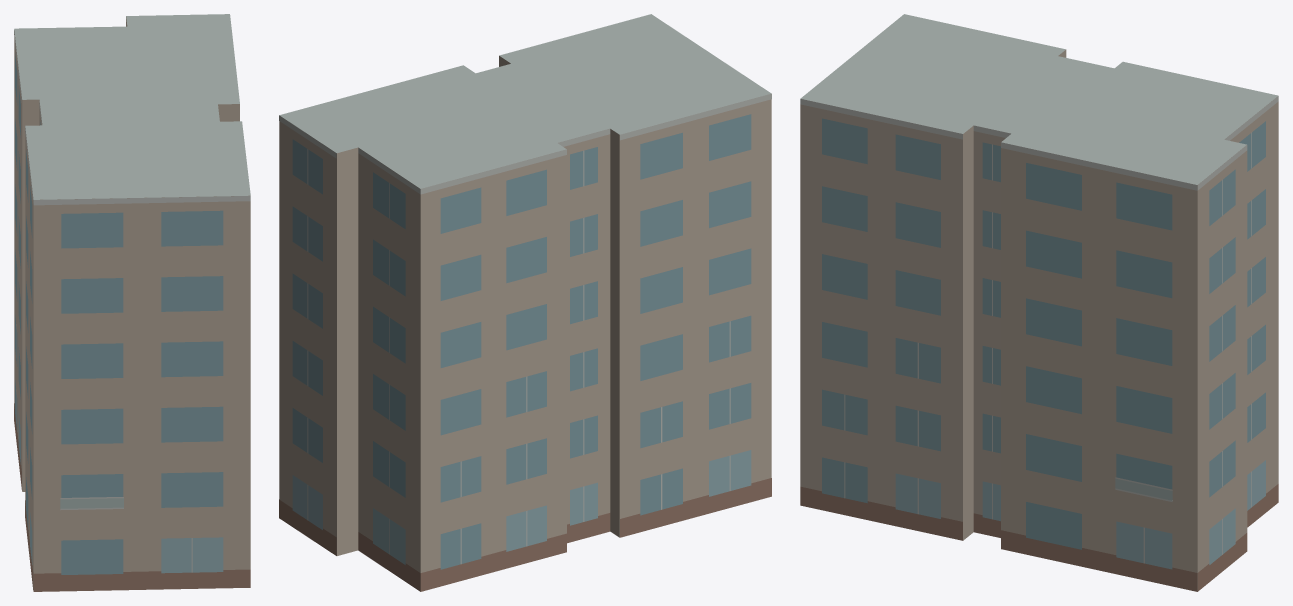
File: survey-upis-32551327.glb
3 renders of one model, left to right at view 1: azimuth 30°, elevation 25°; view 2: azimuth 150°, elevation 25°; view 3: azimuth 270°, elevation 25°, orthographic. The views are drawn at different scales.
Parts seen in each view (by area): view 1: survey-upis-32551327.tmp; view 2: survey-upis-32551327.tmp; view 3: survey-upis-32551327.tmp.
Part boxes in pixels (<box>): survey-upis-32551327.tmp: <box>14,14,250,591</box>; survey-upis-32551327.tmp: <box>279,14,771,591</box>; survey-upis-32551327.tmp: <box>800,14,1278,591</box>.
Bounding box in the file's own units: 15.84 × 17.55 × 18.71.
